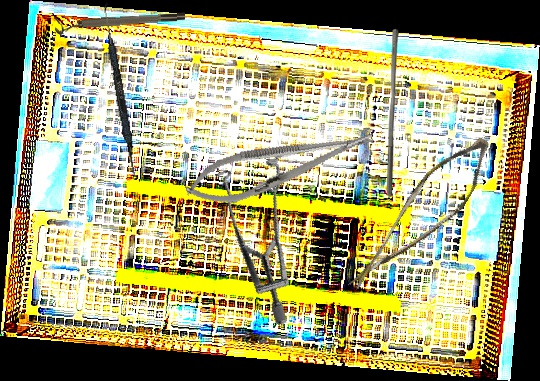Fixation Ring: (54, 10, 186, 35)
Micro Scissor: (347, 118, 499, 317)
Needle Holder: (180, 115, 380, 216)
Pusher: (386, 28, 399, 198)
Spatula Surgical: (97, 3, 142, 177)
Speculum: (173, 138, 341, 328)
